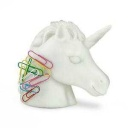Metal: (24, 45, 57, 71), (18, 84, 47, 105)
